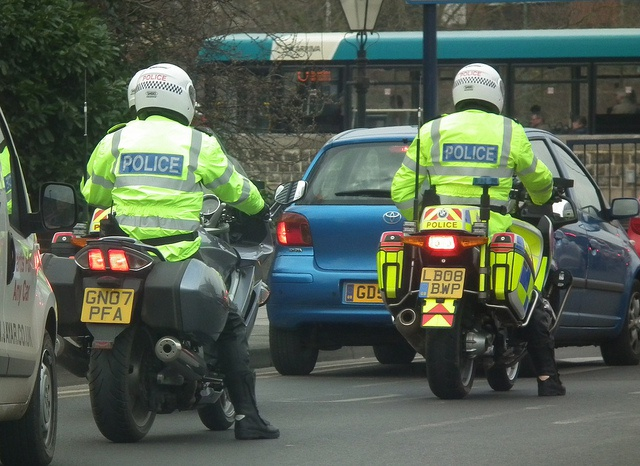non-vehicle: (39, 102, 308, 442), (376, 176, 577, 398)
